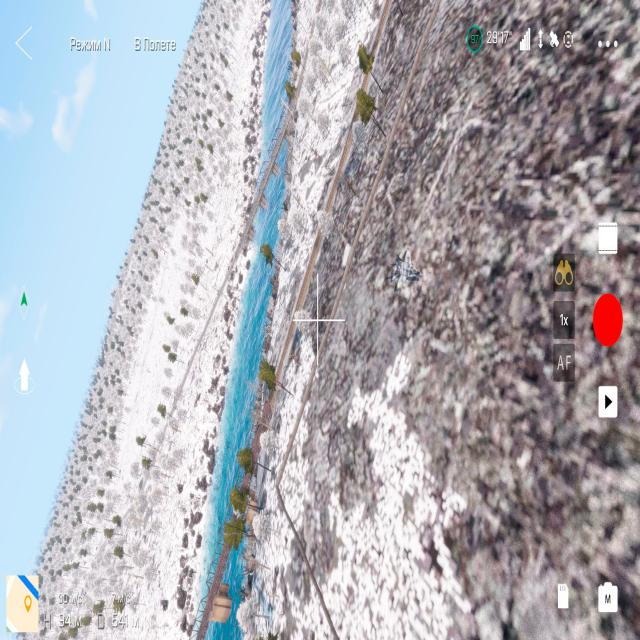fortification: (190, 357, 285, 640), (228, 86, 302, 257)
vehicle: (378, 244, 438, 305)
